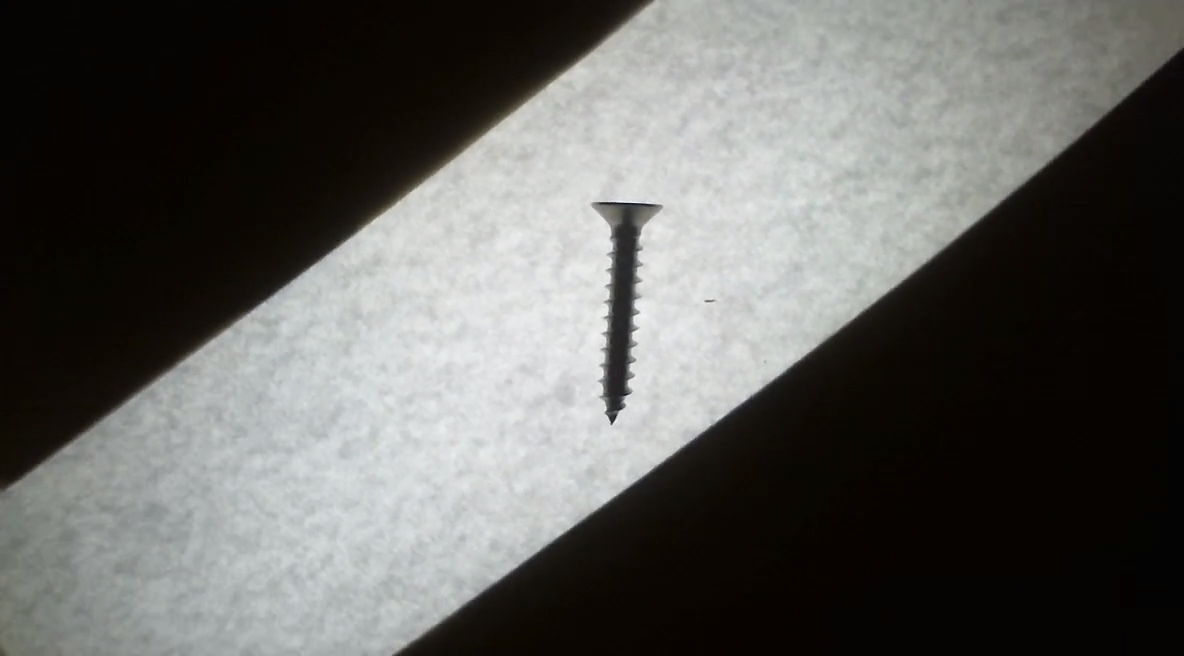S001: (574, 186, 673, 428)
